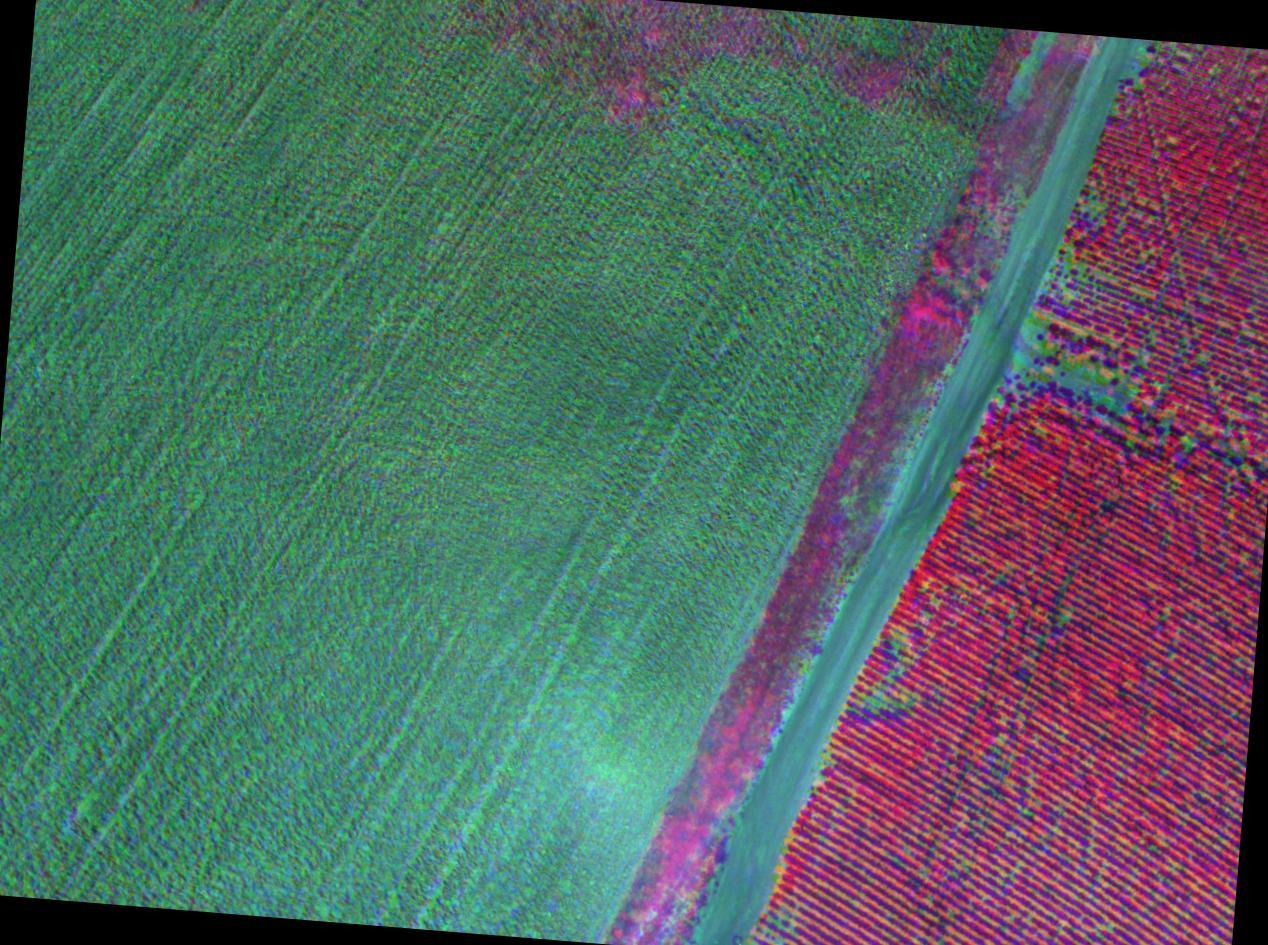dc: (1029, 320, 1035, 325), (1019, 362, 1024, 368), (1109, 399, 1114, 404), (871, 701, 876, 706), (1065, 261, 1069, 266), (1073, 379, 1078, 383), (1104, 925, 1109, 929)
